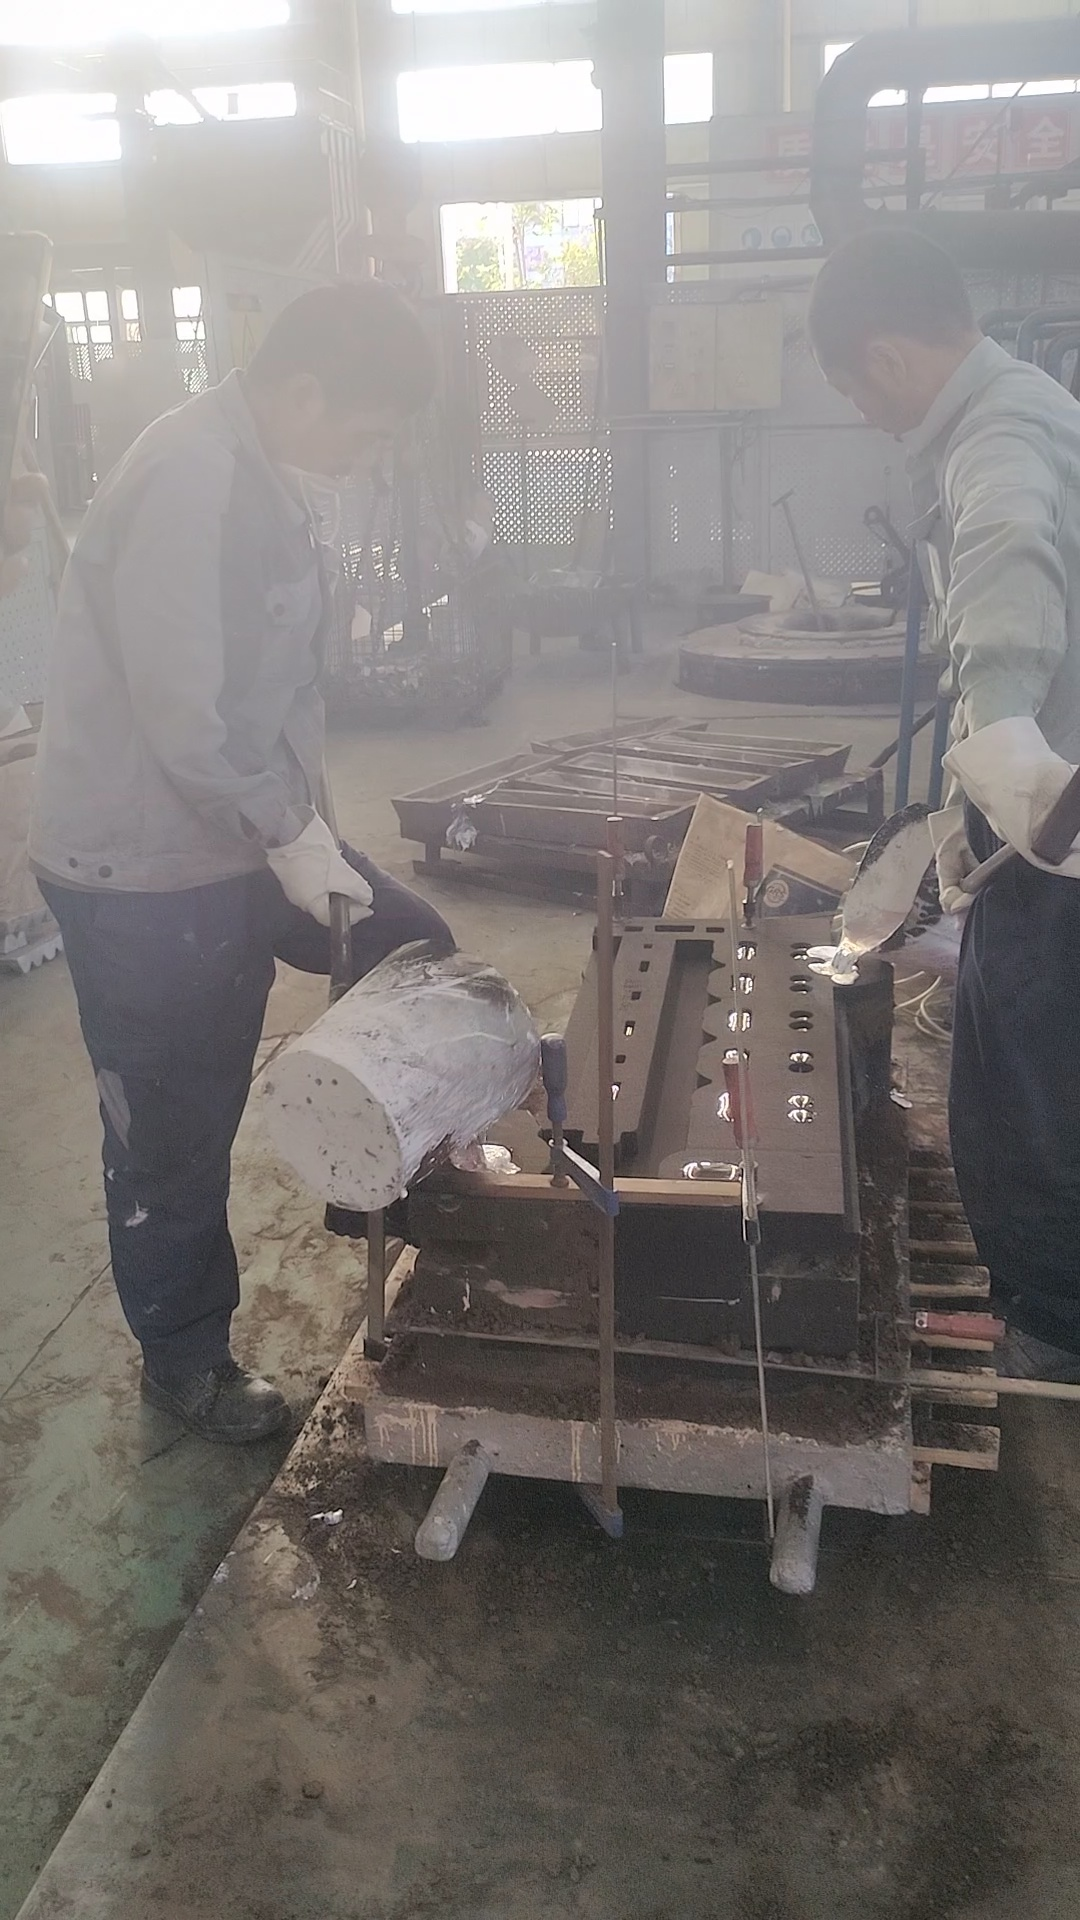pouring hole: (450, 1143, 513, 1172), (807, 957, 862, 977)
